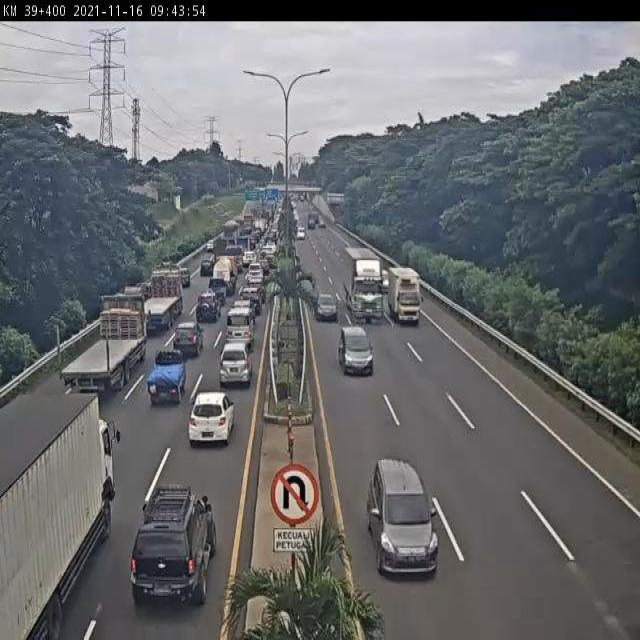car: (130, 481, 219, 611), (367, 458, 432, 578), (186, 392, 236, 452), (144, 349, 187, 408), (217, 344, 253, 395), (341, 327, 370, 377), (171, 324, 203, 363), (225, 308, 254, 349), (193, 294, 220, 329), (315, 291, 339, 325), (207, 279, 227, 305), (175, 267, 193, 293)
small truck: (388, 267, 424, 328)
truck-l-: (55, 291, 152, 400), (131, 269, 181, 347), (344, 245, 387, 324)
